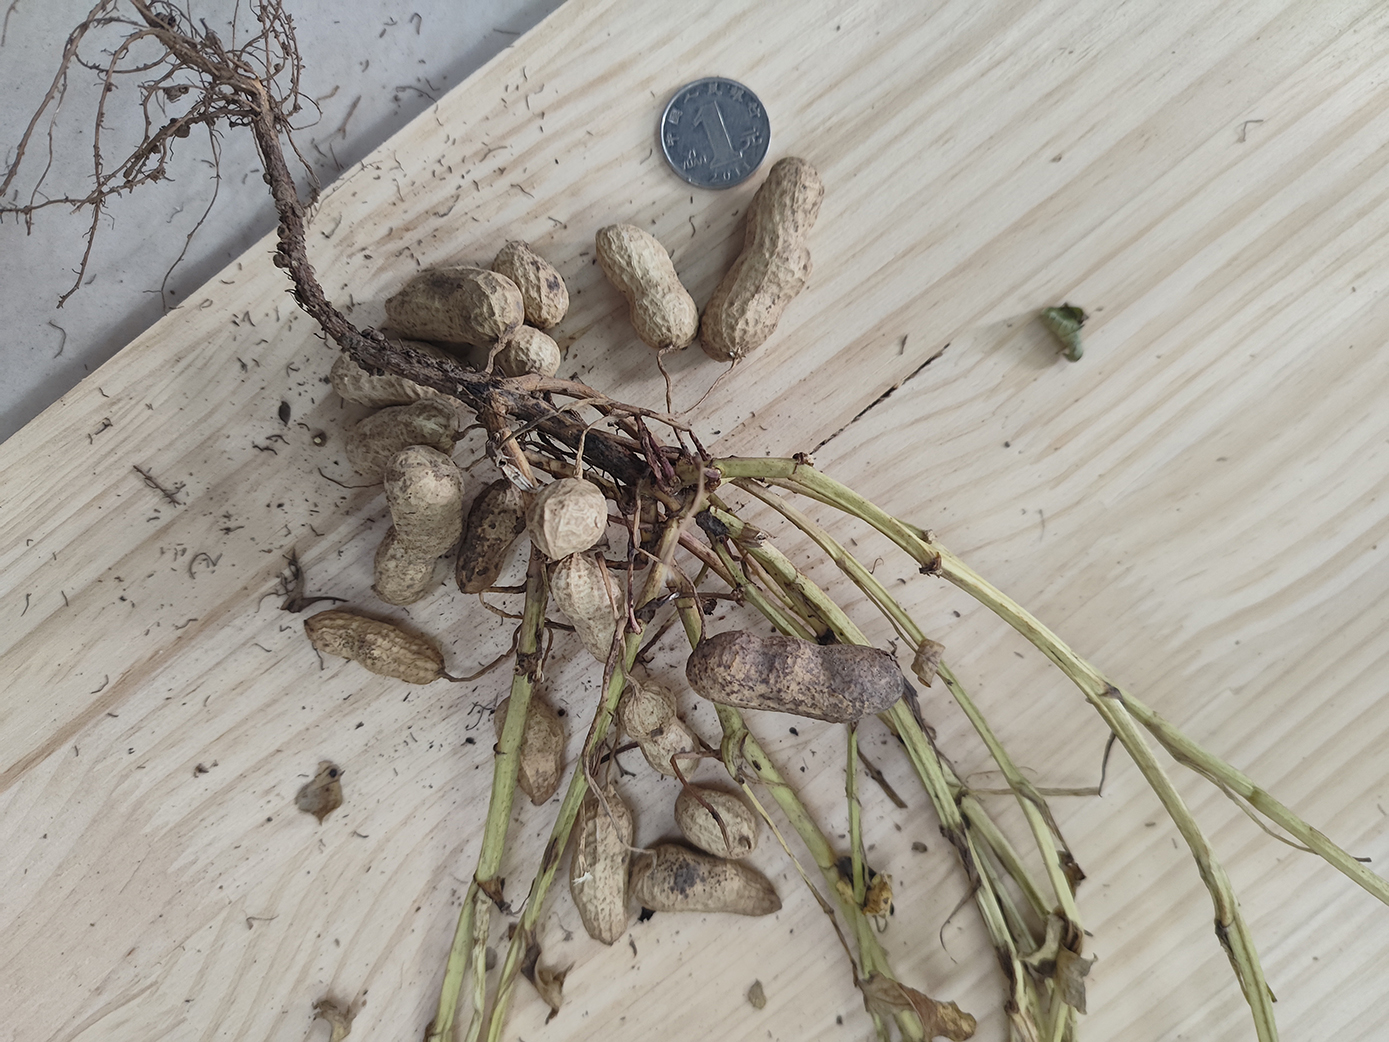h: (697, 158, 825, 360), (375, 445, 464, 603), (592, 224, 696, 349), (304, 610, 444, 687), (382, 267, 526, 341), (632, 845, 783, 915), (570, 794, 634, 947), (335, 340, 463, 406), (618, 682, 697, 779), (553, 555, 621, 668), (348, 401, 462, 467), (498, 691, 564, 806), (456, 483, 524, 593), (493, 241, 572, 331), (531, 477, 607, 559), (676, 787, 760, 857), (491, 325, 563, 381)
l: (686, 630, 903, 725)
